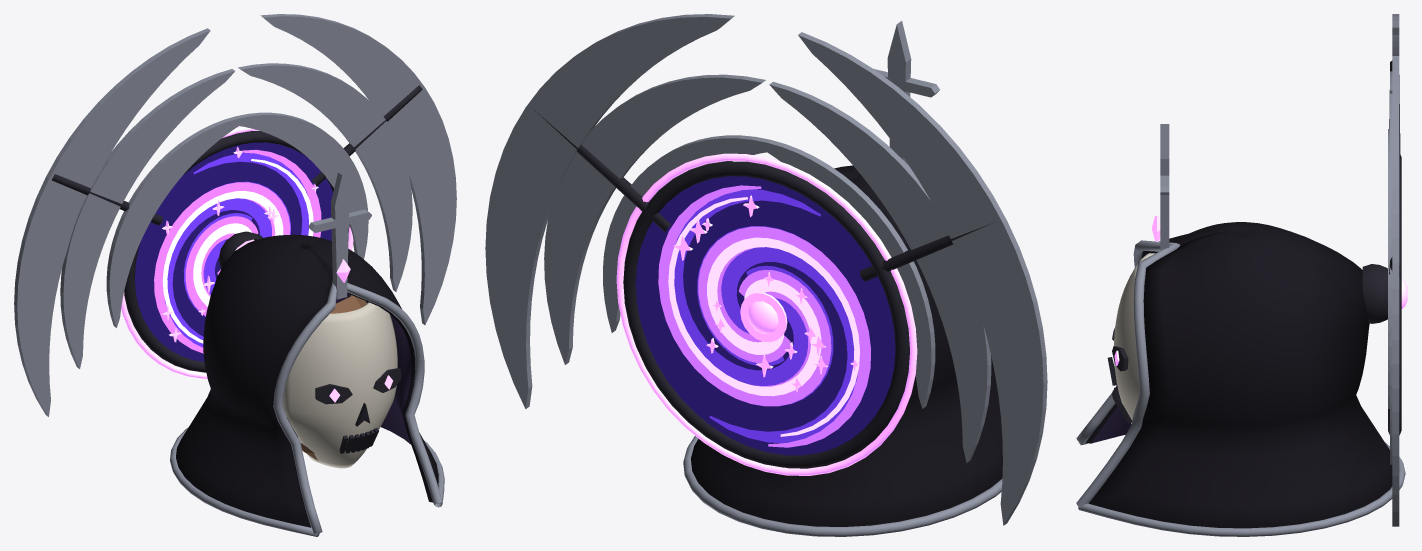
Rendered from h_reaper.glb.
3 renders of one model, left to right at view 1: azimuth 30°, elevation 25°; view 2: azimuth 150°, elevation 25°; view 3: azimuth 270°, elevation 25°, orthographic. The views are drawn at different scales.
Visible parts, largest first — view 1: Hood; view 2: Hood; view 3: Hood.
Boxes of the visible parts, left/top/right/bottom form: Hood: left=14, top=14, right=456, bottom=536; Hood: left=485, top=14, right=1047, bottom=536; Hood: left=1076, top=14, right=1407, bottom=536.
Size of the model in its own units: 0.73 by 0.6265 by 0.4318.
